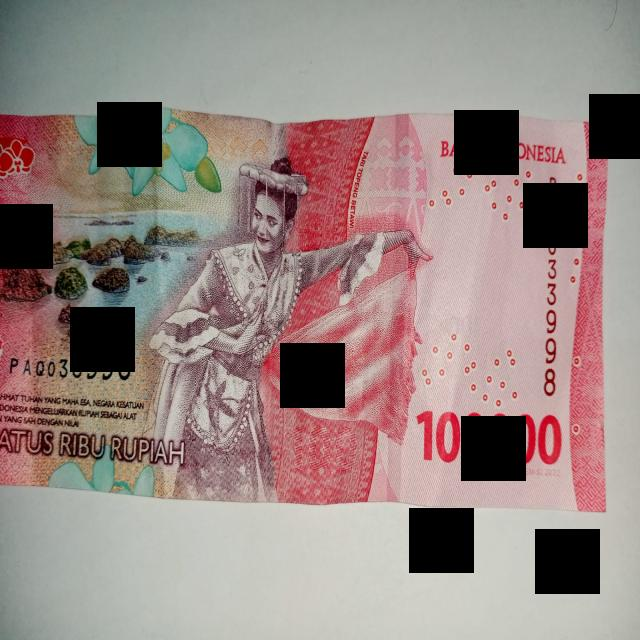seratusribu rupiah: (0, 108, 609, 511)
